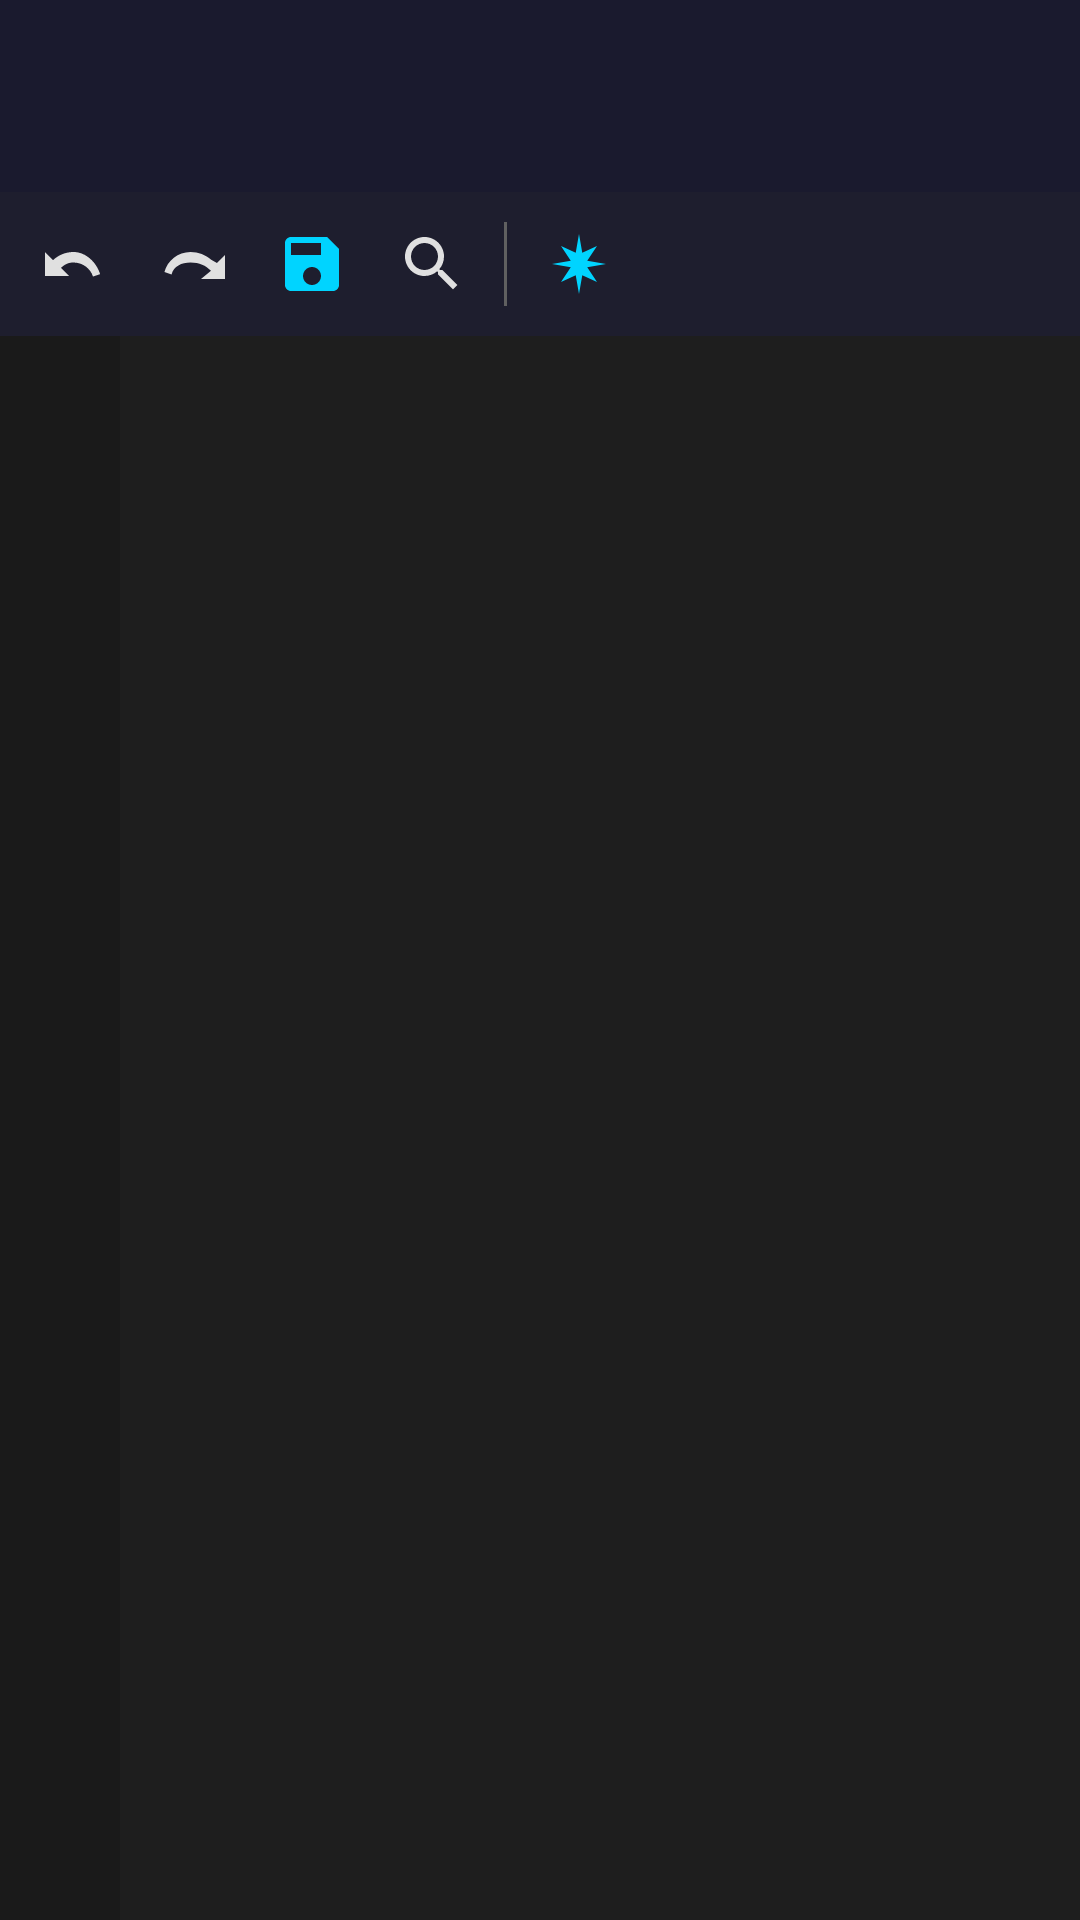

Named icons in this screenshot (1080×1920) and their centers, point (x, y):
Redo: point (194, 265)
Save: point (312, 264)
Search: point (431, 263)
Undo: point (72, 264)
